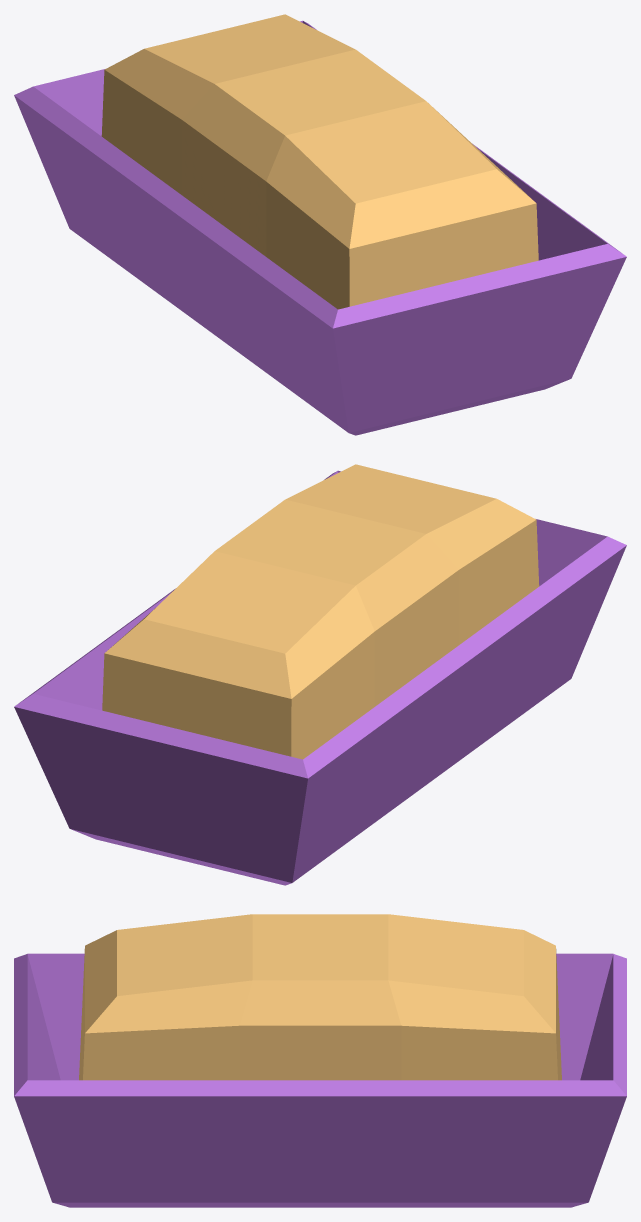
File: VER 2 twinkle.fbx
The picture shows the model from 3 angles, top to bottom: view 1: azimuth 30°, elevation 25°; view 2: azimuth 150°, elevation 25°; view 3: azimuth 270°, elevation 25°; orthographic projection. The views are drawn at different scales.
Parts seen in each view (by area): view 1: twinkle, twinkle box; view 2: twinkle, twinkle box; view 3: twinkle box, twinkle.
Part boxes in pixels (x1,y1,x2,y2): twinkle: [101, 14, 538, 309]; twinkle box: [14, 20, 626, 435]; twinkle: [102, 464, 539, 759]; twinkle box: [14, 470, 626, 885]; twinkle box: [14, 953, 626, 1207]; twinkle: [79, 914, 561, 1080].
Bounding box in the file's own units: 0.5634 × 1.06 × 0.4114.
